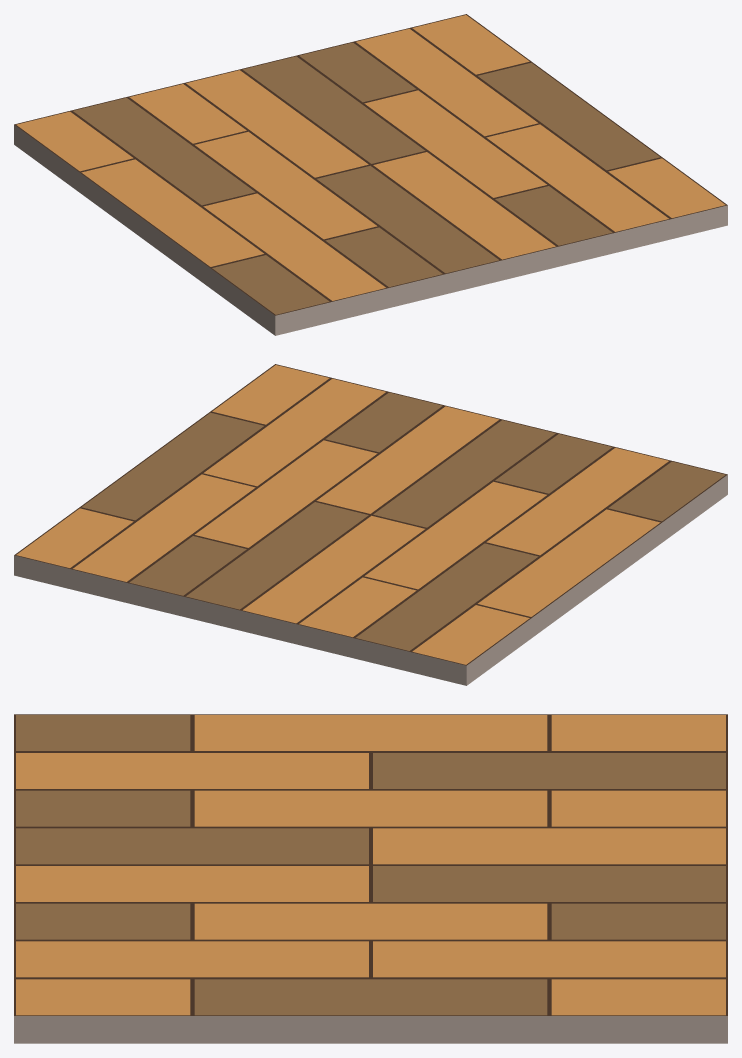
The model's file is Floor_03.fbx.
3 views of the same model, one above another, from view 1: azimuth 30°, elevation 25°; view 2: azimuth 150°, elevation 25°; view 3: azimuth 270°, elevation 25° (orthographic). The views are drawn at different scales.
Parts seen in each view (by area): view 1: Floor_03; view 2: Floor_03; view 3: Floor_03.
Boxes of the visible parts, bbox=[...] form: Floor_03: bbox=[14, 14, 727, 335]; Floor_03: bbox=[14, 364, 727, 685]; Floor_03: bbox=[14, 714, 727, 1043].
Bounding box in the file's own units: 259 × 11.07 × 259.
